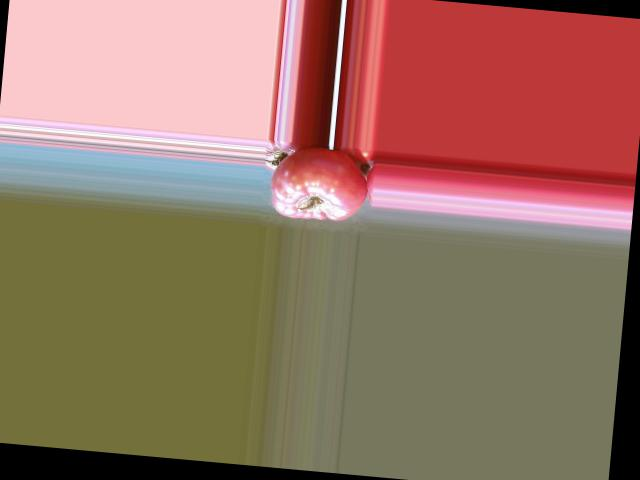tomato: (268, 143, 372, 224)
